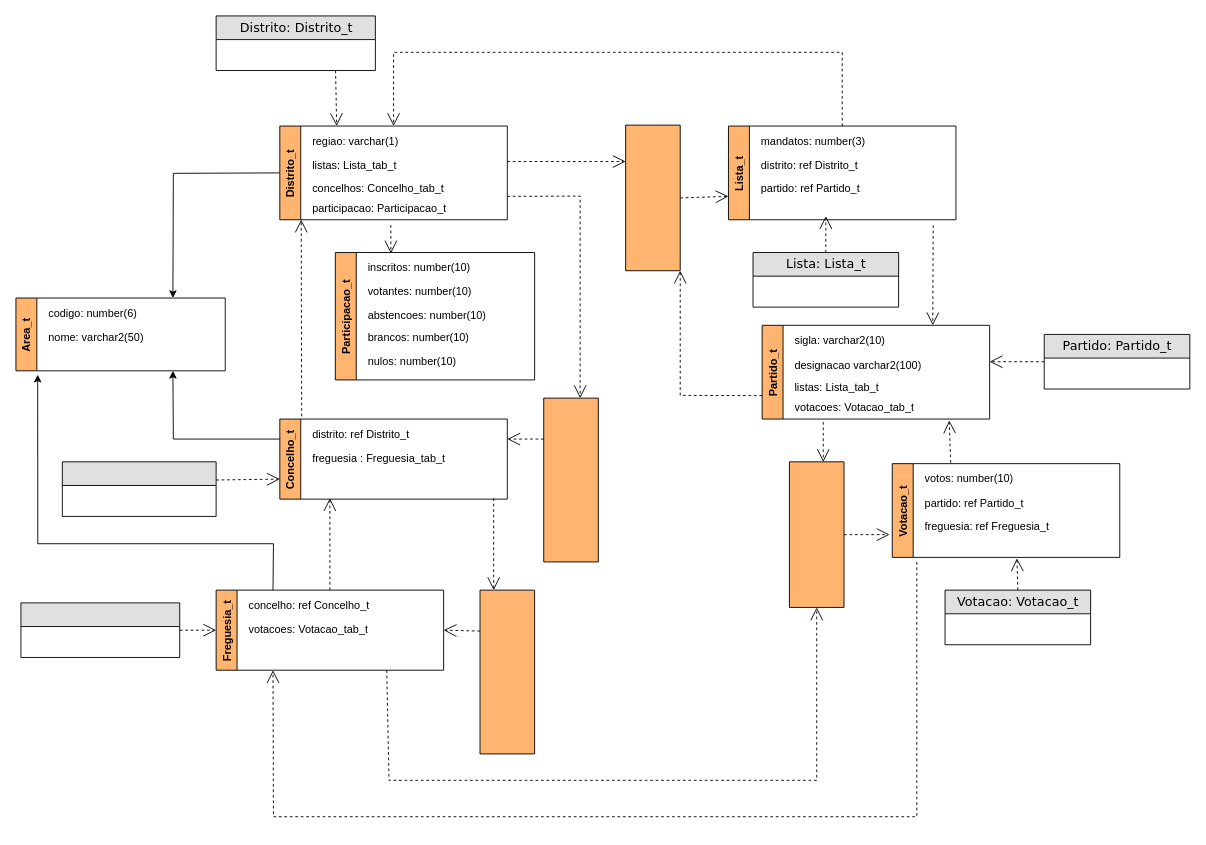
Image size: 1206x845. Some labels were removed from this diagram. The centre of each missing label's shape, as x and y in pixels:
"Concelho : Concelho_t" goes at pixel 138 488.
"Concelho_tab_t : Concelho_t" goes at pixel 570 479.
"Freguesia : Freguesia_t" goes at pixel 100 629.
"Freguesia_tab_t : Freguesia_t" goes at pixel 507 671.
"Lista_tab_t : Lista_t" goes at pixel 652 197.
"Votacao_tab_t : Votacao_t" goes at pixel 816 534.
